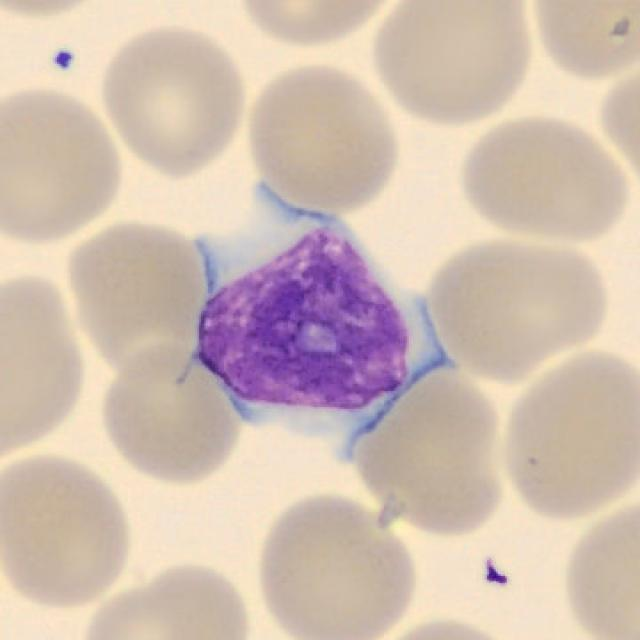Linfocito atipico: (192, 183, 455, 464)
